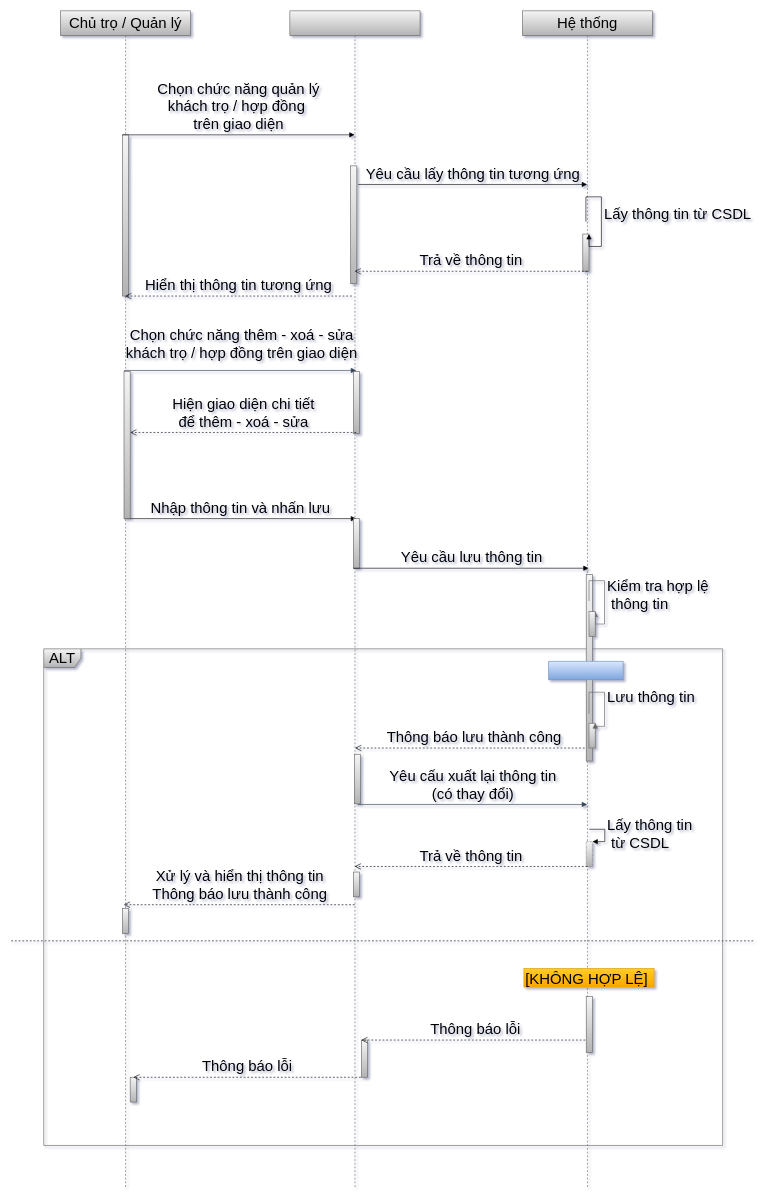
Some shapes in this 770 by 1203 pixel diagram are drawn without their labels. Each missing label, with the box of its shape:
[HỢP LỆ]: (548, 661, 623, 680)
Phần mềm: (289, 10, 420, 1189)
